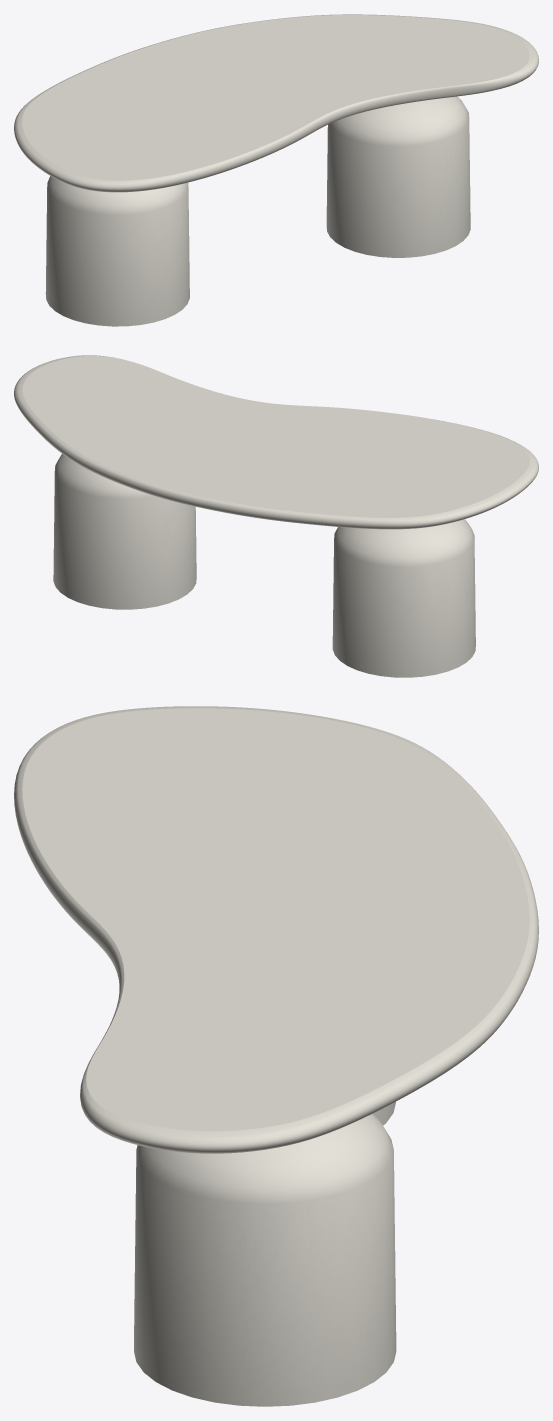
The model's file is pale_leaf1_round_tornado.glb.
3 views of the same model, one above another, from view 1: azimuth 30°, elevation 25°; view 2: azimuth 150°, elevation 25°; view 3: azimuth 270°, elevation 25° (orthographic). The views are drawn at different scales.
Parts seen in each view (by area): view 1: round_leaf1, tornado; view 2: round_leaf1, tornado; view 3: round_leaf1, tornado.
Boxes of the visible parts, x1,y1,x2,y2 form: round_leaf1: (14, 14, 538, 192); tornado: (45, 96, 470, 326); round_leaf1: (14, 355, 538, 529); tornado: (53, 454, 475, 677); round_leaf1: (14, 706, 538, 1153); tornado: (134, 1102, 396, 1406).
Bounding box in the file's own units: 7.5 × 2.51 × 3.8.
Materials: 1 (1 with a texture image).
